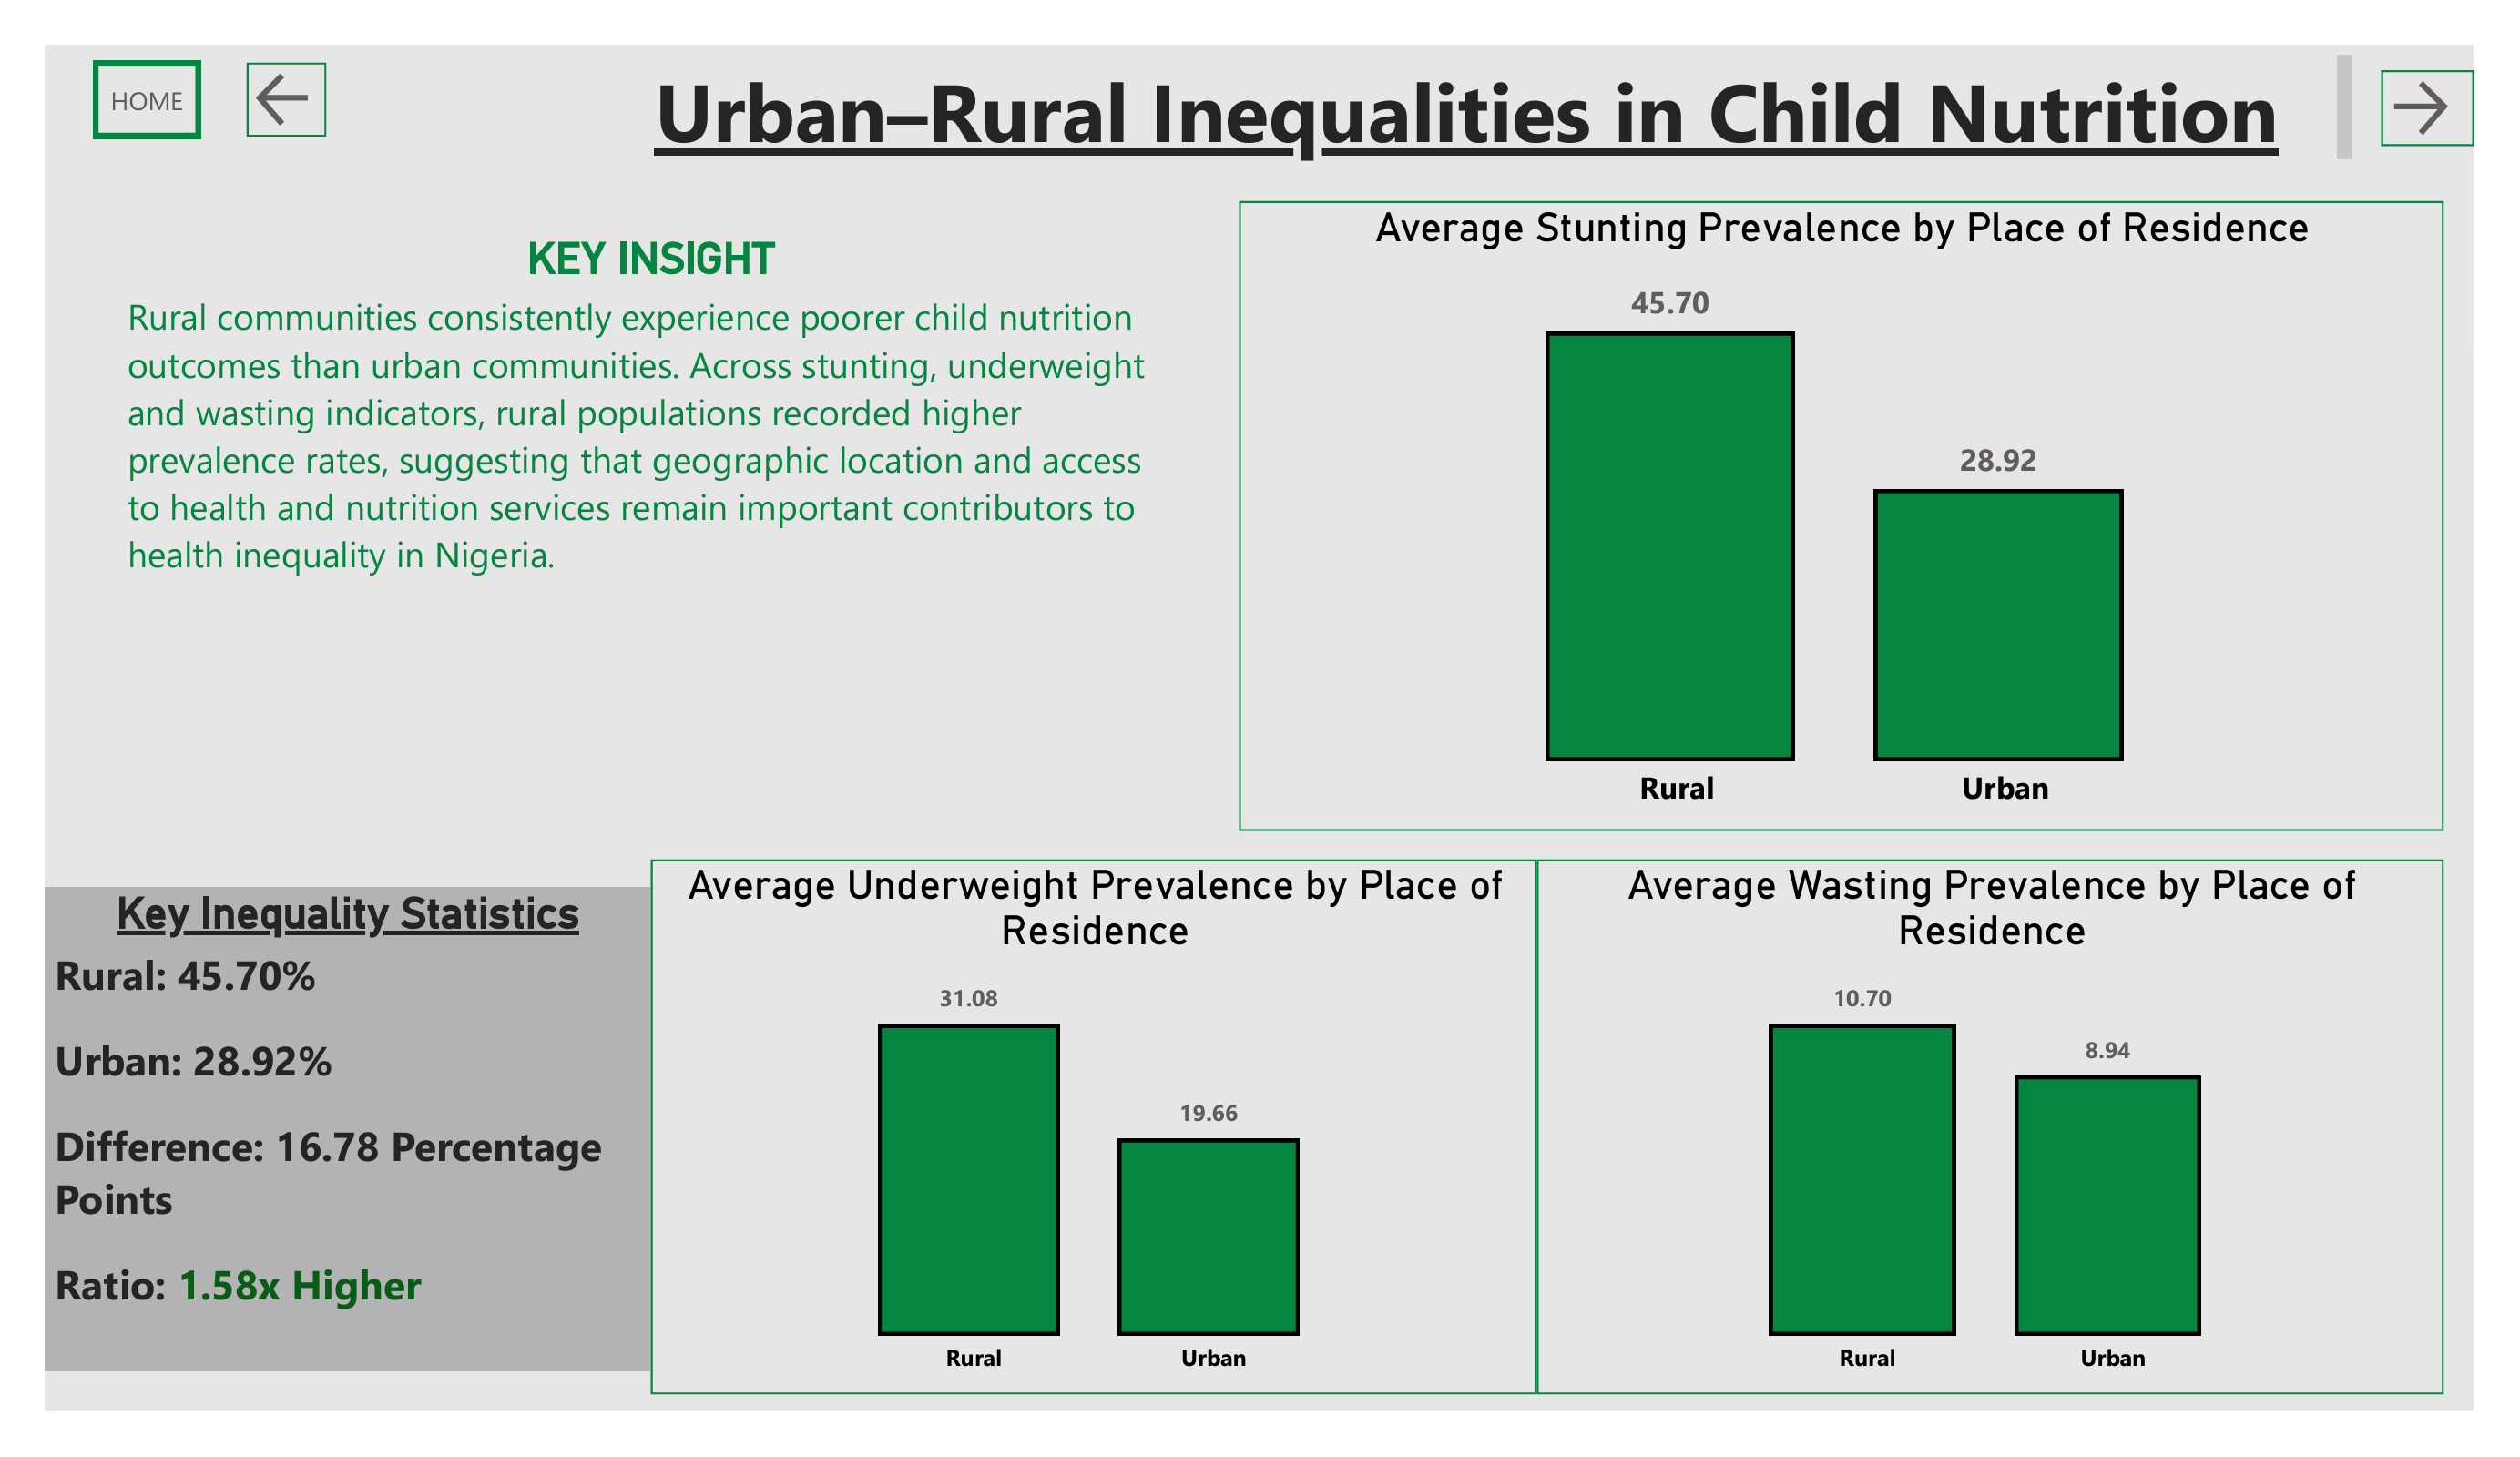

This screenshot's page, from the dashboard's own definition file:
{"tool":"powerbi","page":{"name":"RESIDENCE DISPARITY","canvas":[1280,720],"ordinal":3},"visuals":[{"type":"textbox","box":[285.1,0,936,66.1],"z":0},{"type":"actionButton","box":[1231.3,13.2,48.5,39.7],"z":1000},{"type":"actionButton","box":[105.8,8.8,42.6,39.7],"z":2000},{"type":"textbox","title":"KEY INSIGHT ","box":[38,99.4,563.2,241.7],"z":3000},{"type":"textbox","title":"Key Inequality Statistics","box":[0,444.2,319,255.2],"z":4000},{"type":"clusteredColumnChart","title":"Average Stunting Prevalence by Place of Residence","fields":{"Category":["nutritional_inequality.CATEGORY"],"Y":["Measures_Table.Avg Stunting"]},"box":[628.9,82.3,634.8,332.1],"z":5000},{"type":"clusteredColumnChart","title":"Average Wasting Prevalence by Place of Residence","fields":{"Category":["nutritional_inequality.CATEGORY"],"Y":["Measures_Table.Avg Wasting"]},"box":[786.1,429.1,477.6,282.1],"z":6000},{"type":"clusteredColumnChart","title":"Average Underweight Prevalence by Place of Residence","fields":{"Category":["nutritional_inequality.CATEGORY"],"Y":["Measures_Table.Avg Underweight"]},"box":[318.9,429.1,467.3,282.1],"z":7000},{"type":"actionButton","box":[25,8.3,57,40.3],"z":8000}]}

Visuals, with their boxes on the page's 1280x720 design canvas (x1, y1, x2, y2). These are canvas units, not pixel positions in the 2520x1457 screenshot, which may show the page scaled, cropped or inside an application window:
textbox: box=[285, 0, 1221, 66]
actionButton: box=[1231, 13, 1280, 53]
actionButton: box=[106, 9, 148, 48]
"KEY INSIGHT " textbox: box=[38, 99, 601, 341]
"Key Inequality Statistics" textbox: box=[0, 444, 319, 699]
"Average Stunting Prevalence by Place of Residence" clusteredColumnChart: box=[629, 82, 1264, 414]
"Average Wasting Prevalence by Place of Residence" clusteredColumnChart: box=[786, 429, 1264, 711]
"Average Underweight Prevalence by Place of Residence" clusteredColumnChart: box=[319, 429, 786, 711]
actionButton: box=[25, 8, 82, 49]
